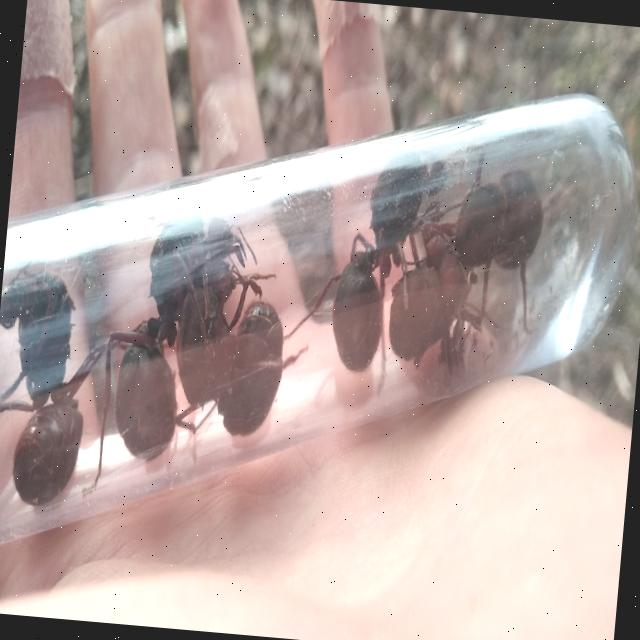Alive-Female-Dealate: (80, 197, 282, 516), (276, 138, 466, 402), (0, 253, 183, 518), (157, 227, 319, 446), (420, 138, 554, 338), (382, 212, 508, 382)
